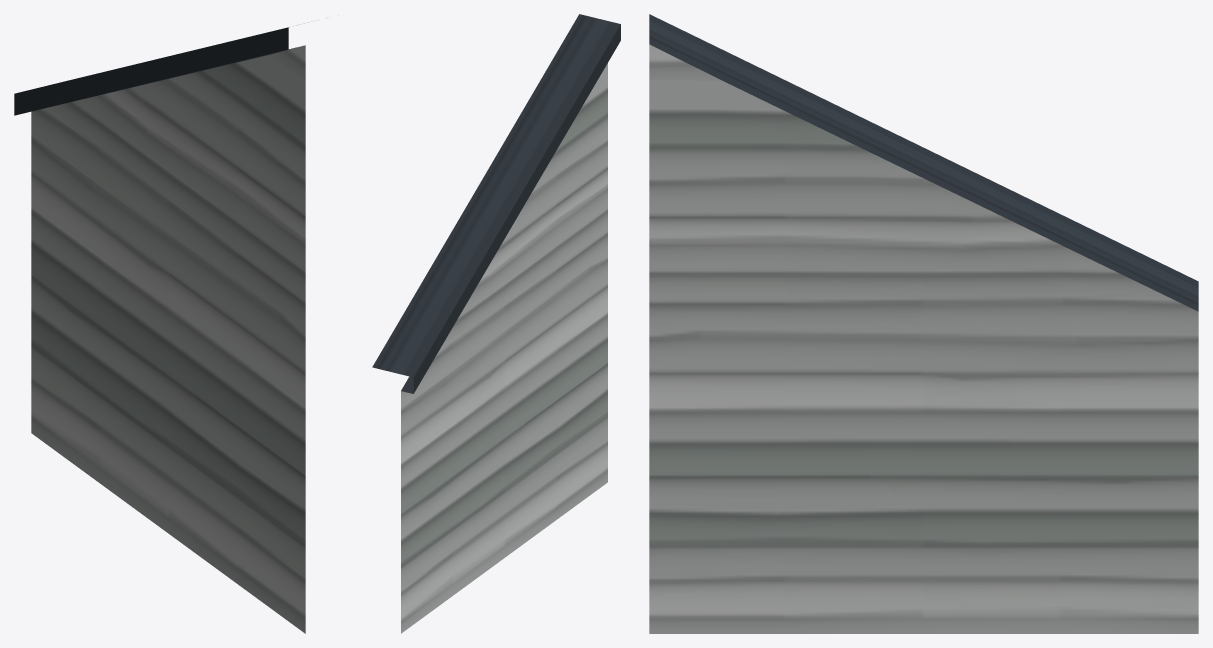
The model's file is SM_Bld_House_Roof_EndCap_01.fbx.
3 renders of one model, left to right at view 1: azimuth 30°, elevation 25°; view 2: azimuth 150°, elevation 25°; view 3: azimuth 270°, elevation 25°, orthographic. The views are drawn at different scales.
Parts seen in each view (by area): view 1: SM_Bld_House_Roof_EndCap_01; view 2: SM_Bld_House_Roof_EndCap_01; view 3: SM_Bld_House_Roof_EndCap_01.
Part boxes in pixels (x1,y1,x2,y2): SM_Bld_House_Roof_EndCap_01: [14, 25, 305, 633]; SM_Bld_House_Roof_EndCap_01: [372, 14, 620, 633]; SM_Bld_House_Roof_EndCap_01: [649, 14, 1198, 633].
Bounding box in the file's own units: 28.91 × 307 × 250.
